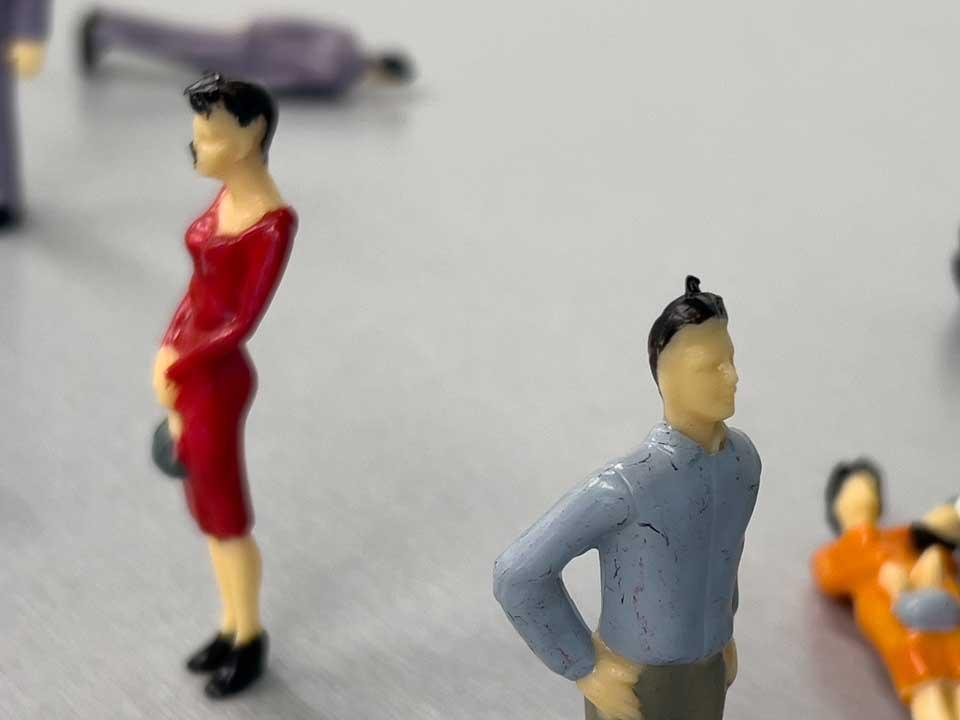human: (113, 62, 351, 720), (483, 260, 777, 720), (803, 457, 960, 720)
